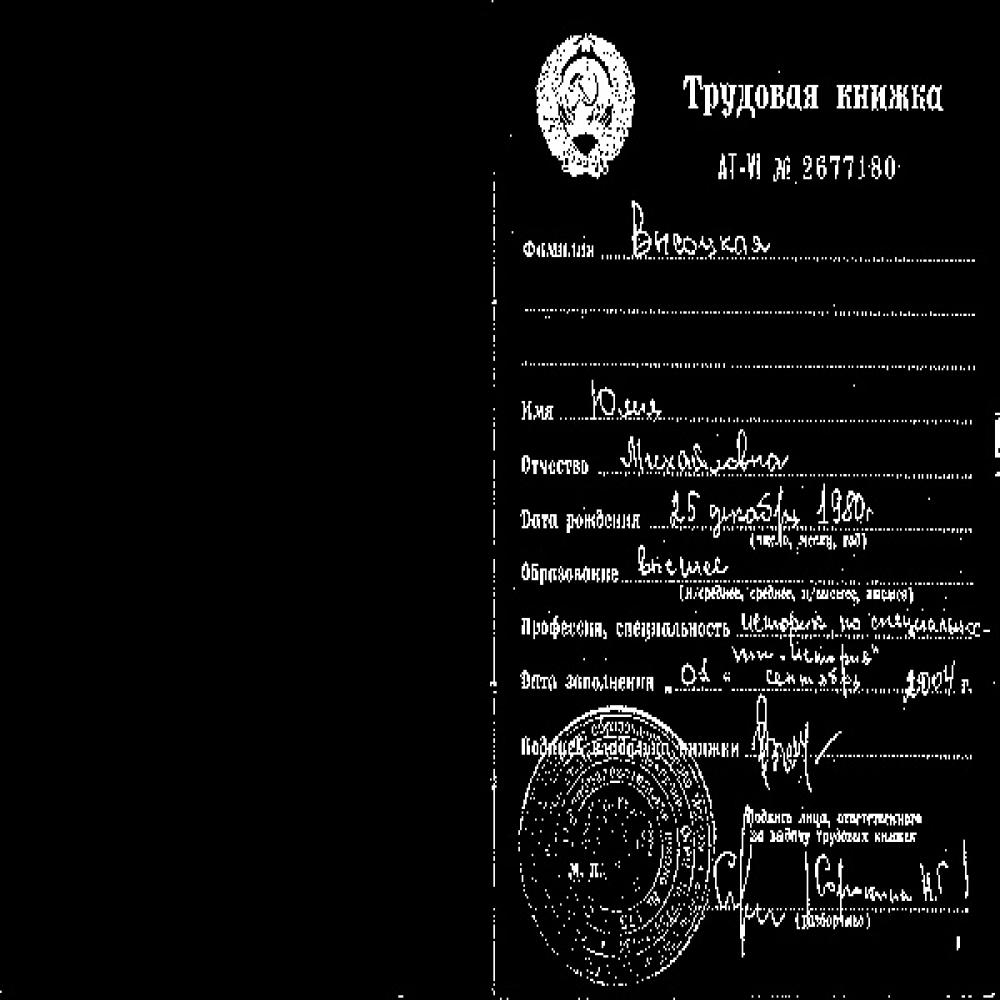rus: (735, 596, 1000, 637), (624, 194, 777, 256), (610, 426, 799, 475), (681, 68, 822, 124), (833, 63, 946, 119), (510, 665, 658, 702), (704, 485, 807, 533), (515, 557, 626, 591), (593, 373, 675, 417), (629, 541, 731, 576), (802, 146, 898, 183), (615, 616, 729, 645), (518, 609, 612, 644), (760, 663, 864, 693), (813, 485, 874, 527), (564, 502, 644, 534), (518, 446, 590, 481), (518, 237, 601, 264), (902, 662, 956, 697), (661, 488, 704, 530), (715, 151, 763, 186), (514, 500, 560, 535), (516, 392, 553, 429), (681, 655, 714, 686), (770, 153, 793, 184)
